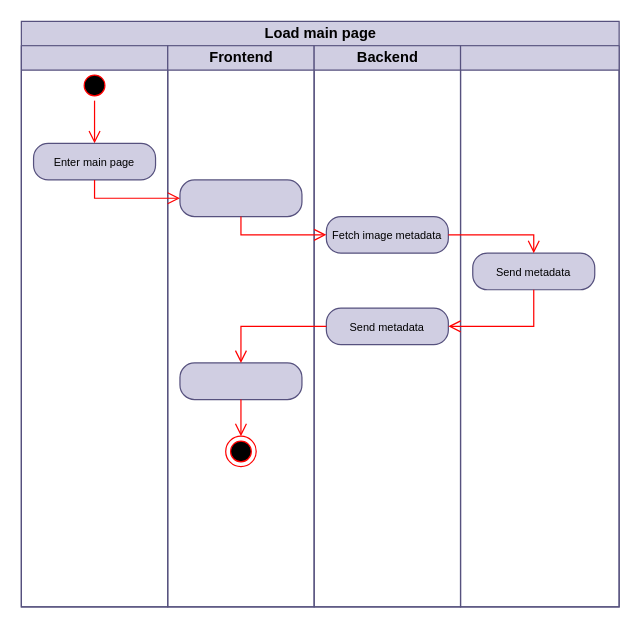
Some shapes in this 641 by 628 pixel diagram are drawn without their labels. Each missing label, with the box of its shape:
Database: (459, 45, 619, 607)
Redner page: (179, 362, 302, 400)
Send request for image metadata: (179, 179, 302, 217)
User: (20, 45, 168, 607)
